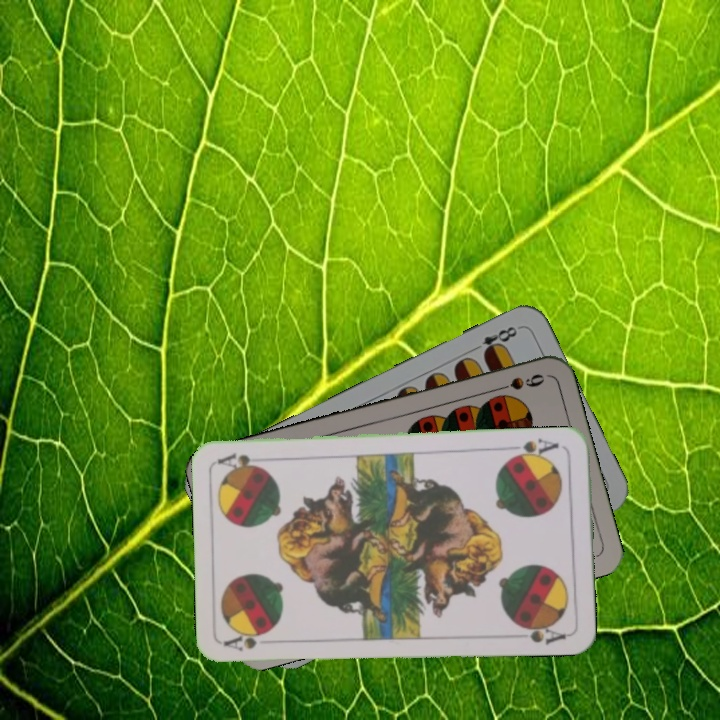E8: (467, 322, 520, 359)
S9: (489, 369, 547, 395)
SA: (506, 434, 562, 462), (221, 627, 275, 654)
